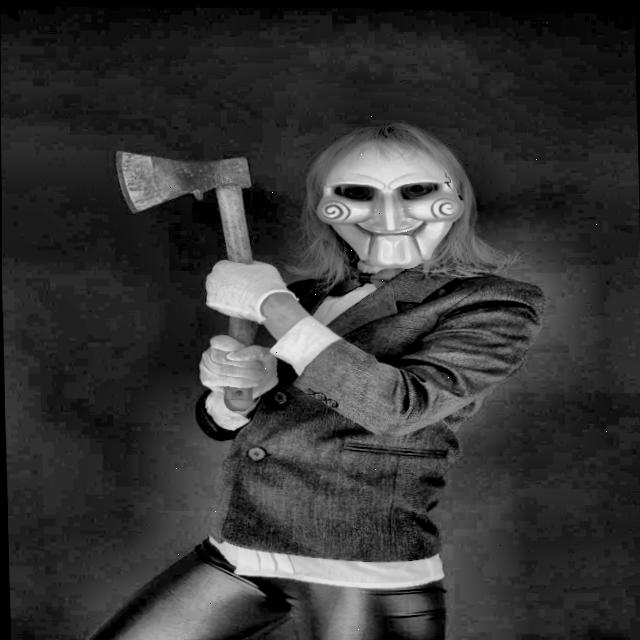kapak: (83, 126, 289, 420)
